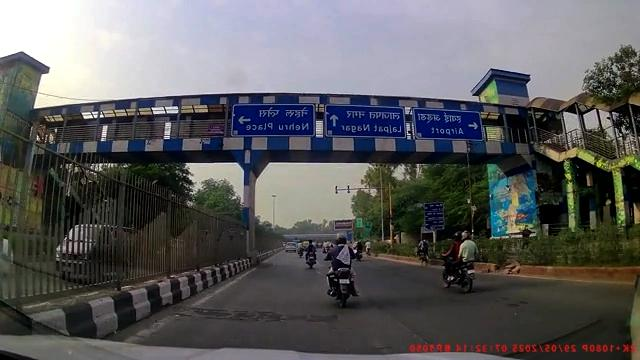motorcycle_with_helmet: (324, 236, 363, 308)
passenger_with_helmet: (442, 230, 476, 293)
